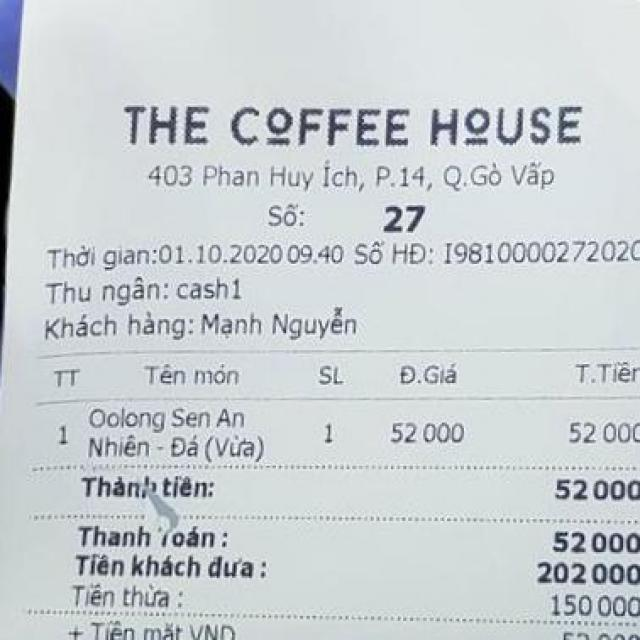Date: (155, 239, 287, 270)
Store_Name: (101, 73, 599, 150)
amount_number: (536, 467, 640, 509)
label_total: (75, 469, 220, 502)
